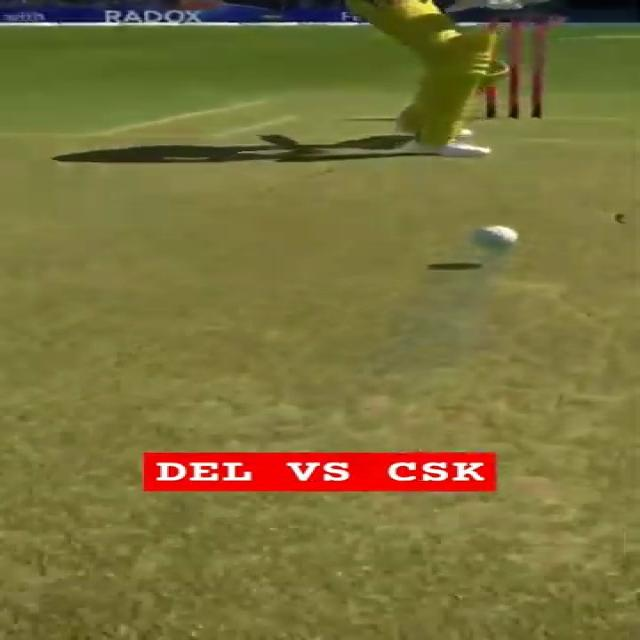ball: (468, 224, 519, 252)
